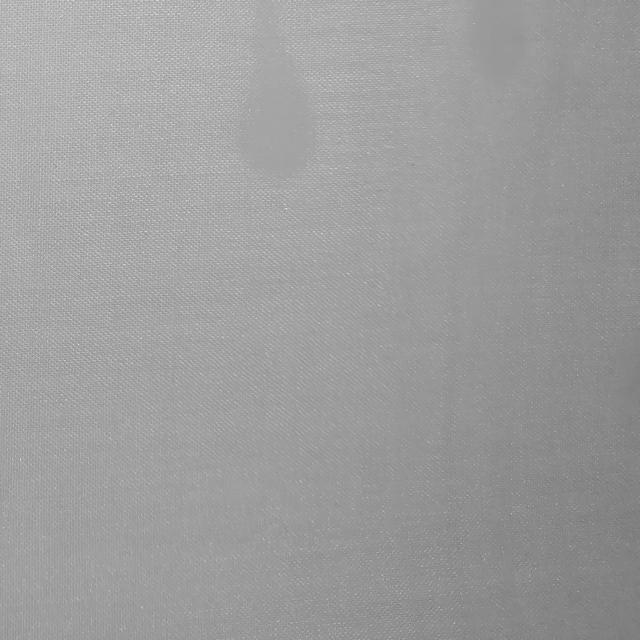Stain: (238, 1, 315, 179), (469, 0, 527, 78)
